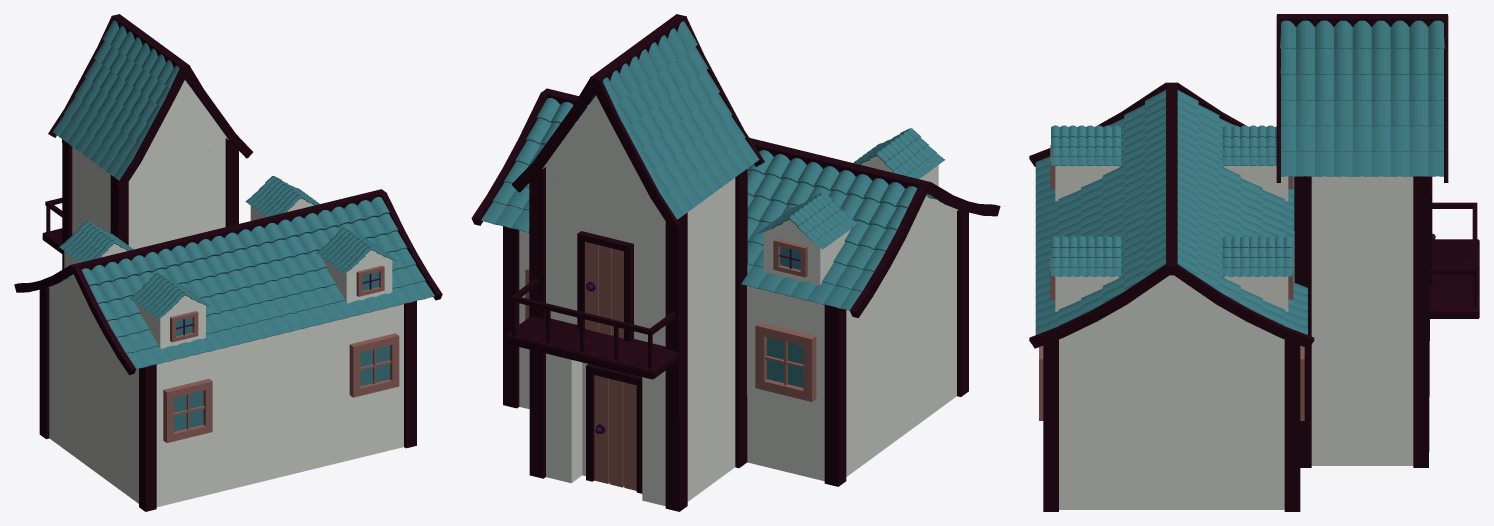
The model's file is winery.fbx.
3 views of the same model, side by side, from view 1: azimuth 30°, elevation 25°; view 2: azimuth 150°, elevation 25°; view 3: azimuth 270°, elevation 25° (orthographic). The views are drawn at different scales.
Parts seen in each view (by area): view 1: winery, Plane.002, Plane.001, Cube.001, Plane.003, Cube.008, Cube.004, Cube.016, Plane.013, Cube.007, Plane.004, Plane.006 (+5 smaller); view 2: Cube.001, winery, Plane.002, Plane.001, Cube.007, Cube.008, Cube.004, Cube.009, Plane.003, Cube.019, Plane.004, Plane.007 (+12 smaller); view 3: winery, Cube.001, Plane.002, Plane.001, Plane.003, Cube.007, Cube.008, Plane.007, Cube.016, Cube.005, Cube.009, Plane.006 (+5 smaller).
Boxes of the visible parts, bbox=[...] form: winery: bbox=[49, 288, 403, 507]; Plane.002: bbox=[62, 197, 434, 368]; Plane.001: bbox=[53, 20, 207, 180]; Cube.001: bbox=[72, 147, 225, 249]; Plane.003: bbox=[59, 176, 397, 319]; Cube.008: bbox=[39, 287, 416, 511]; Cube.004: bbox=[137, 80, 228, 168]; Cube.016: bbox=[64, 198, 392, 348]; Plane.013: bbox=[163, 333, 399, 442]; Cube.007: bbox=[62, 138, 238, 269]; Plane.004: bbox=[48, 16, 252, 187]; Plane.006: bbox=[70, 189, 385, 273]; Cube.001: bbox=[546, 178, 735, 506]; winery: bbox=[519, 211, 956, 481]; Plane.002: bbox=[481, 98, 941, 310]; Plane.001: bbox=[569, 21, 759, 219]; Cube.007: bbox=[529, 167, 747, 511]; Cube.008: bbox=[503, 210, 968, 486]; Cube.004: bbox=[542, 95, 655, 205]; Cube.009: bbox=[505, 316, 678, 379]; Plane.003: bbox=[757, 128, 944, 249]; Cube.019: bbox=[594, 375, 636, 490]; Plane.004: bbox=[512, 17, 764, 228]; Plane.007: bbox=[471, 93, 1000, 317]; winery: bbox=[1059, 327, 1284, 509]; Cube.001: bbox=[1311, 176, 1413, 465]; Plane.002: bbox=[1035, 90, 1307, 334]; Plane.001: bbox=[1280, 20, 1444, 176]; Plane.003: bbox=[1051, 125, 1292, 276]; Cube.007: bbox=[1294, 176, 1430, 467]; Cube.008: bbox=[1043, 339, 1300, 511]; Plane.007: bbox=[1029, 82, 1314, 348]; Cube.016: bbox=[1055, 166, 1288, 312]; Cube.005: bbox=[1085, 275, 1258, 327]; Cube.009: bbox=[1430, 239, 1479, 318]; Plane.006: bbox=[1166, 82, 1177, 275].
Size of the model in its own units: 352 by 363 by 370.
1 material, 1 textured.
